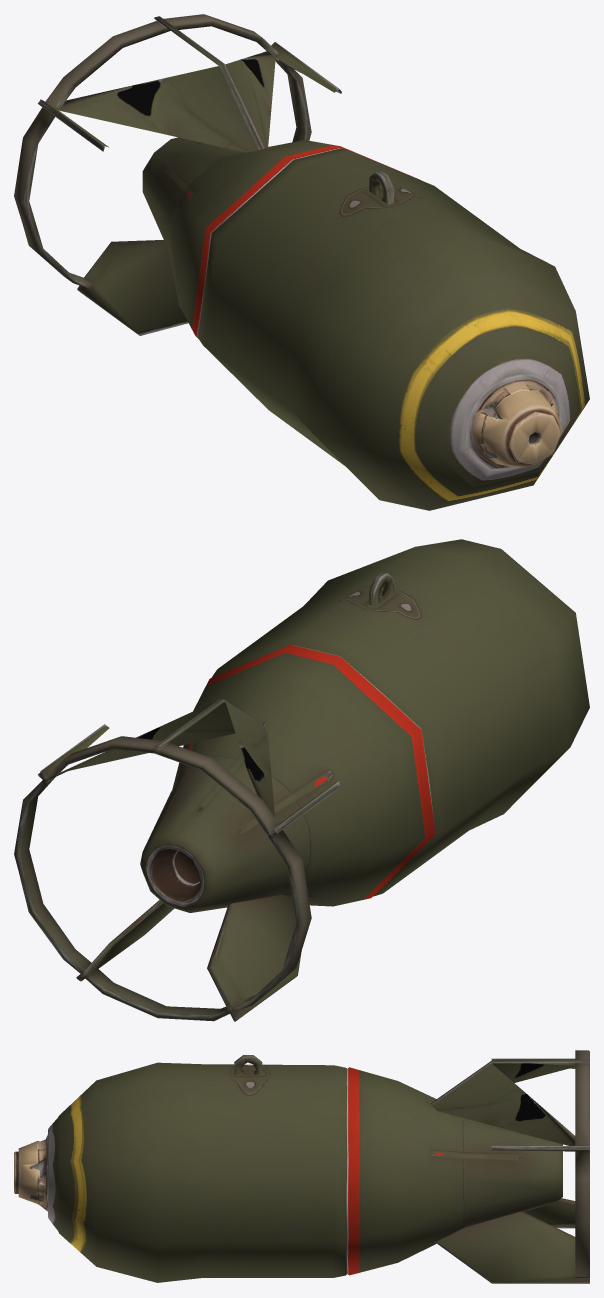
The model's file is cooper_single_remesh.glb.
3 renders of one model, top to bottom at view 1: azimuth 30°, elevation 25°; view 2: azimuth 150°, elevation 25°; view 3: azimuth 270°, elevation 25°, orthographic. The views are drawn at different scales.
Visible parts, largest first — view 1: tripo_node_c3b0f5f6-9a3b-4111-ac07-eaa13; view 2: tripo_node_c3b0f5f6-9a3b-4111-ac07-eaa13; view 3: tripo_node_c3b0f5f6-9a3b-4111-ac07-eaa13.
Boxes of the visible parts, left/top/right/bottom form: tripo_node_c3b0f5f6-9a3b-4111-ac07-eaa13: left=14, top=14, right=589, bottom=510; tripo_node_c3b0f5f6-9a3b-4111-ac07-eaa13: left=14, top=539, right=589, bottom=1021; tripo_node_c3b0f5f6-9a3b-4111-ac07-eaa13: left=14, top=1050, right=589, bottom=1283.
Size of the model in its own units: 0.4403 by 0.407 by 0.998.
1 material, 1 textured.
